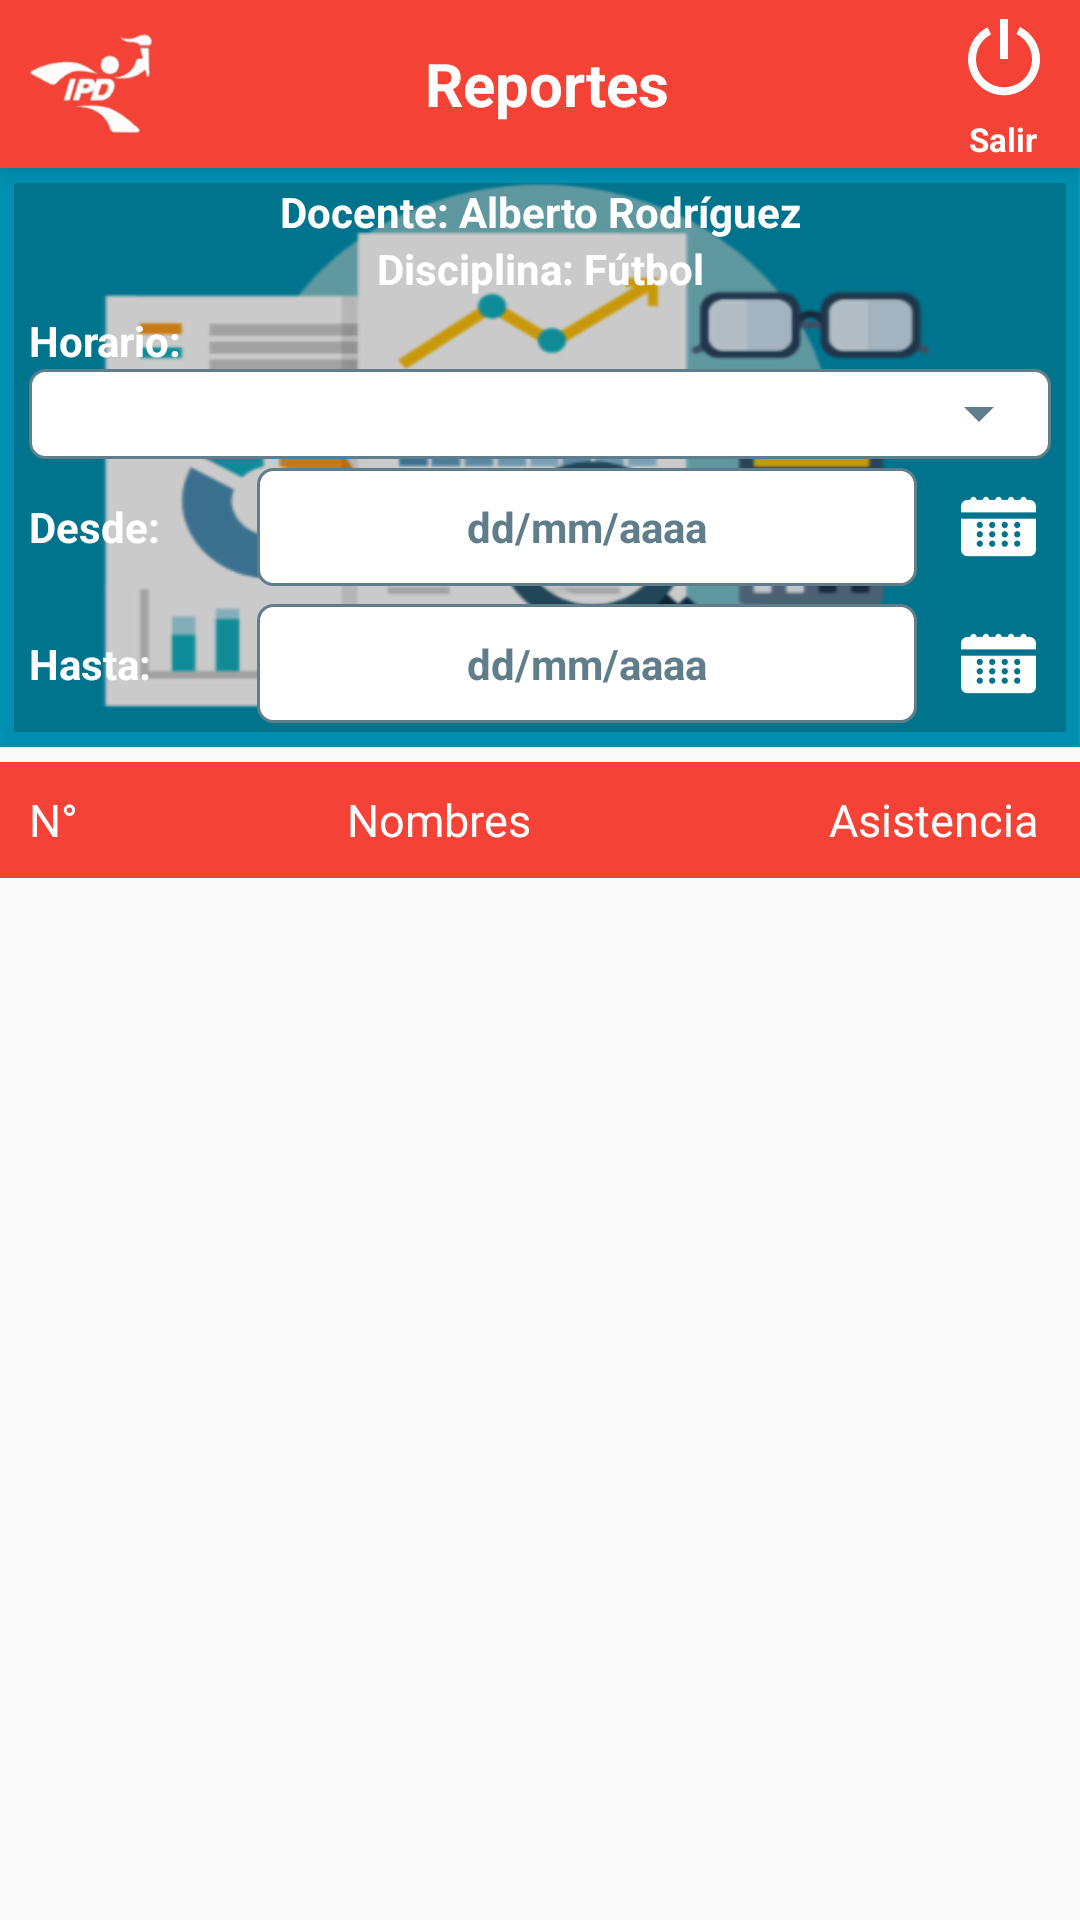

Icon click points for this 1080w x 1920h phone screenshot, format point (x, y):
calendar: point (998, 526), point (998, 663)
shutdown: point (1004, 57)
